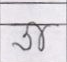i_matra: (29, 22, 46, 51)
